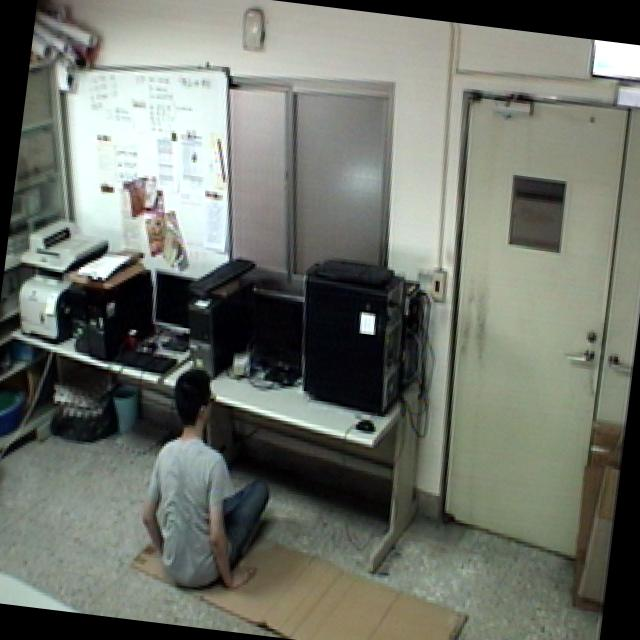sit: (129, 358, 298, 604)
